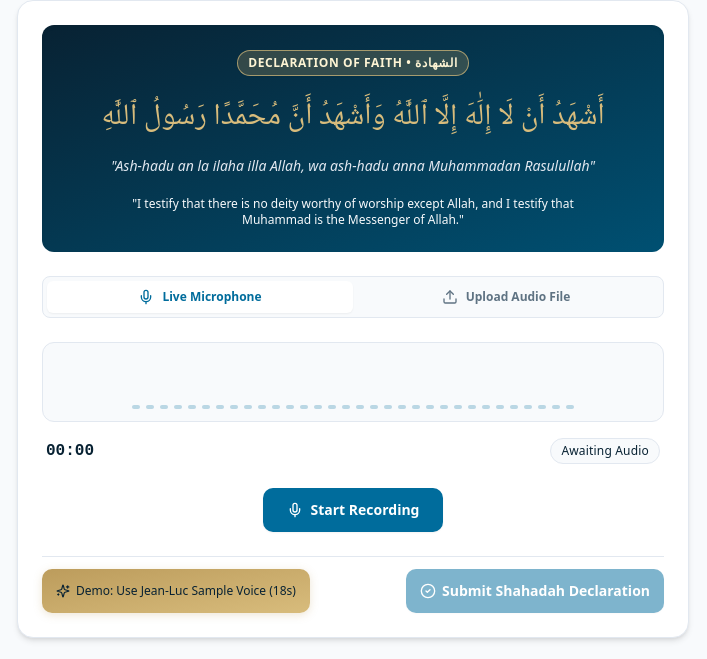
Test: ShahadahRecorder Component (Task 3.1 & 3.2) › demo shortcut button sets sample audio and enables submission
The image size is (707, 659).
Later steps or results of the test are not shown.
Click the button "Demo: Use Jean-Luc Sample Voice (18s)": point(176, 591) [42,569,310,613]
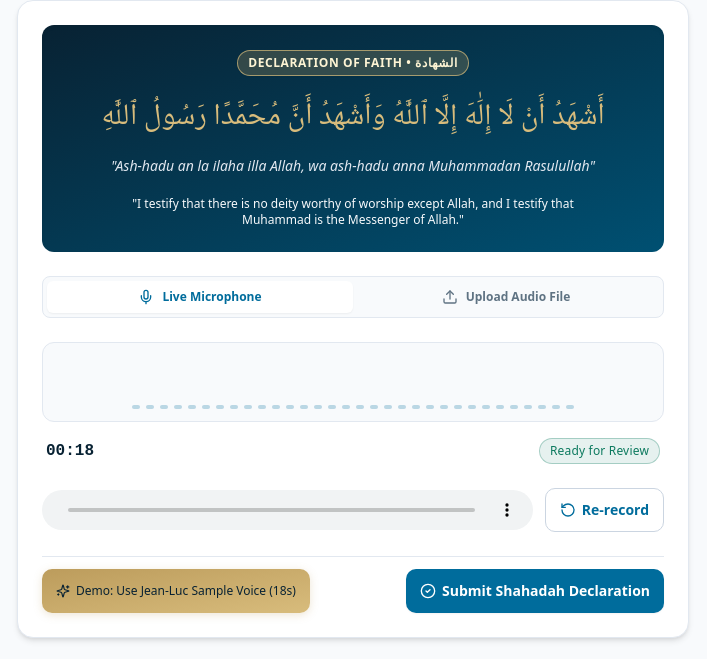
Result: the button "Submit Shahadah Declaration" is enabled at [406,569,664,613]
